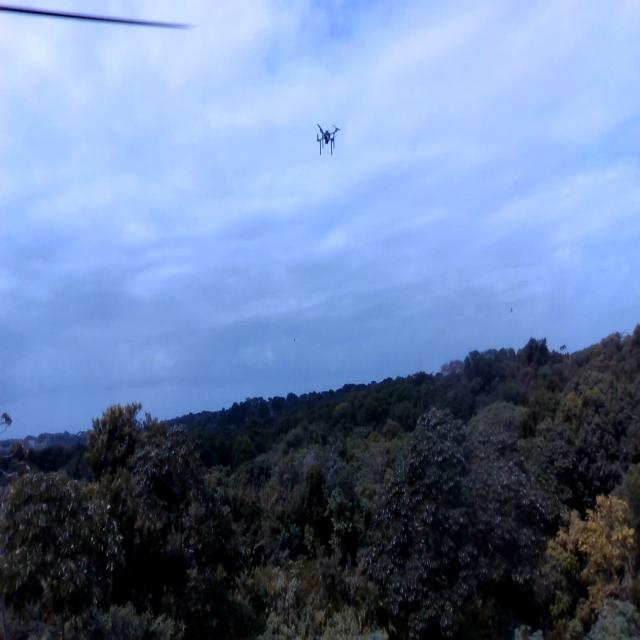-uav-: (308, 114, 348, 163)
